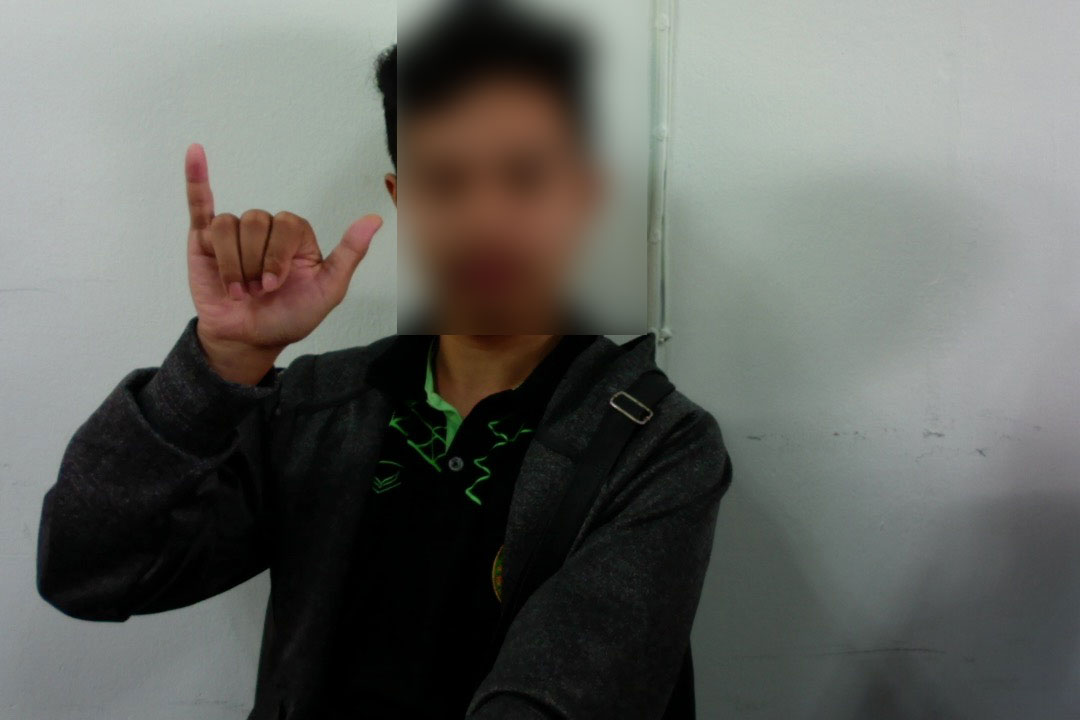yor: (171, 132, 389, 376)
